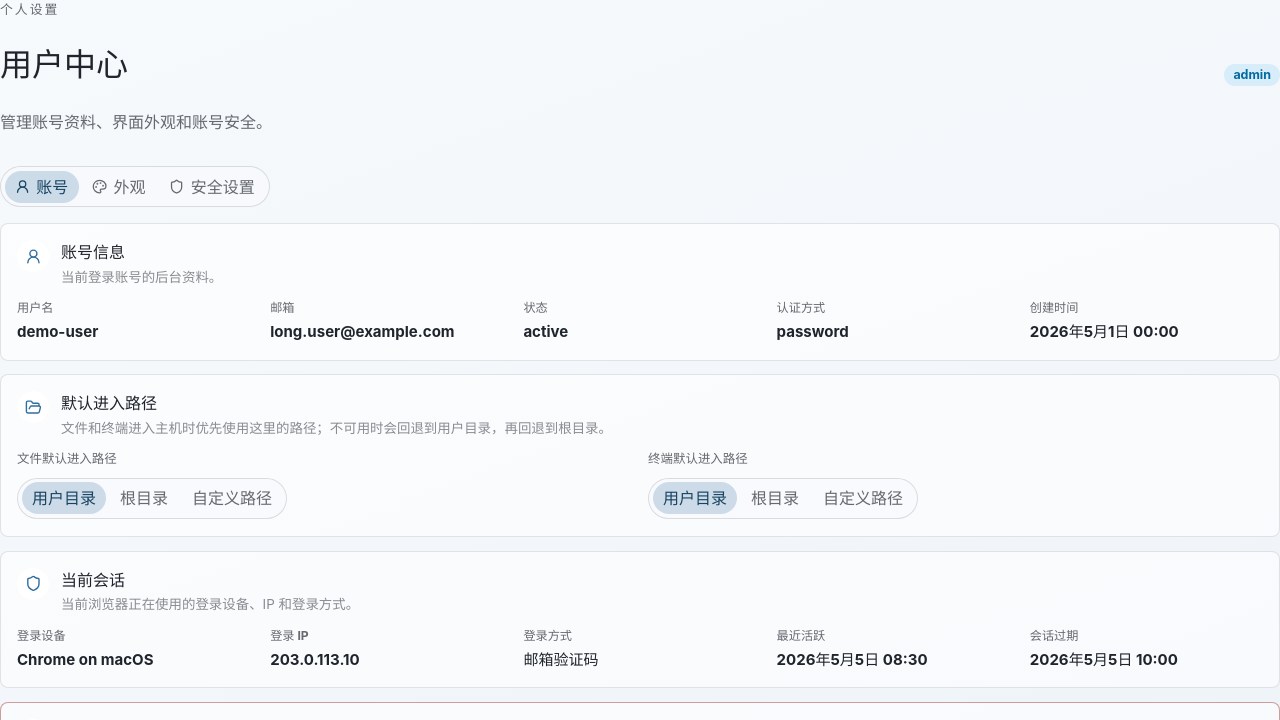
Test case: UserCenterPage › keeps the MFA setup dialog open when password verification fails
Click the button "安全设置": (212, 187) x1=159 y1=171 x2=265 y2=203
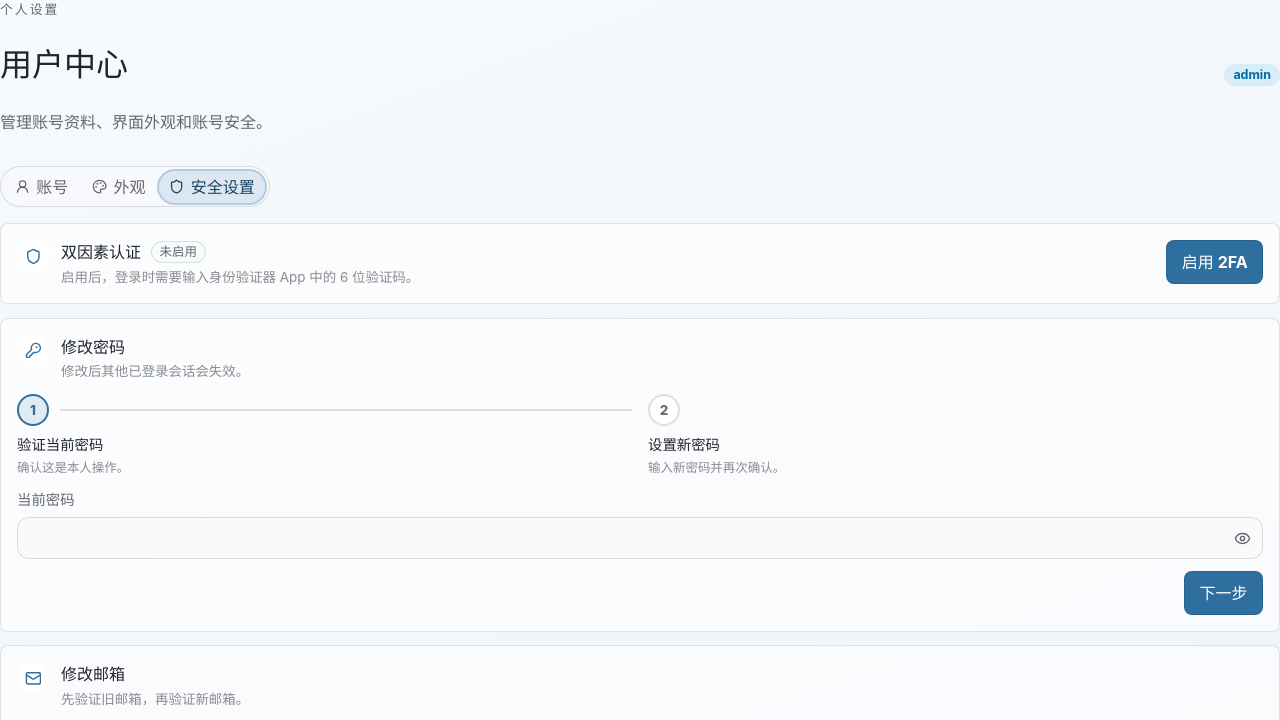
Click the button "启用 2FA": (1215, 262) x1=1166 y1=240 x2=1263 y2=284
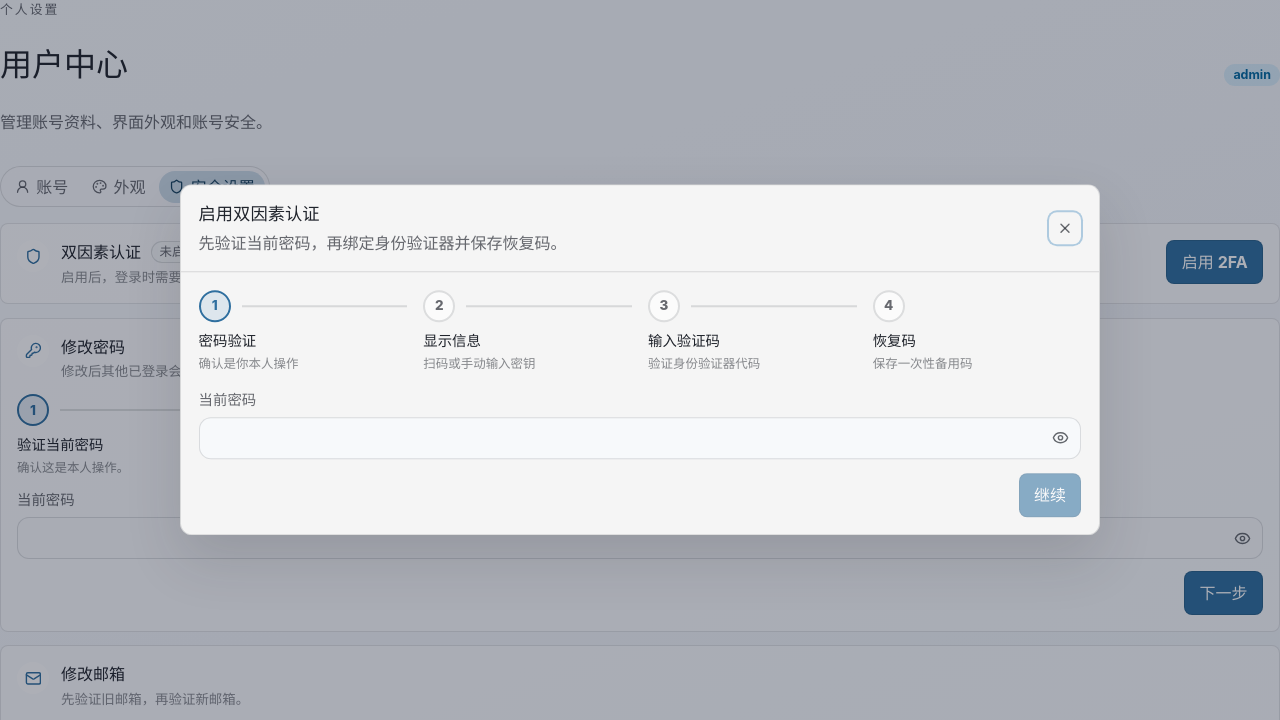
In the password field labelled "当前密码": (620, 438) x1=200 y1=418 x2=1040 y2=458, type "wrong-pass"
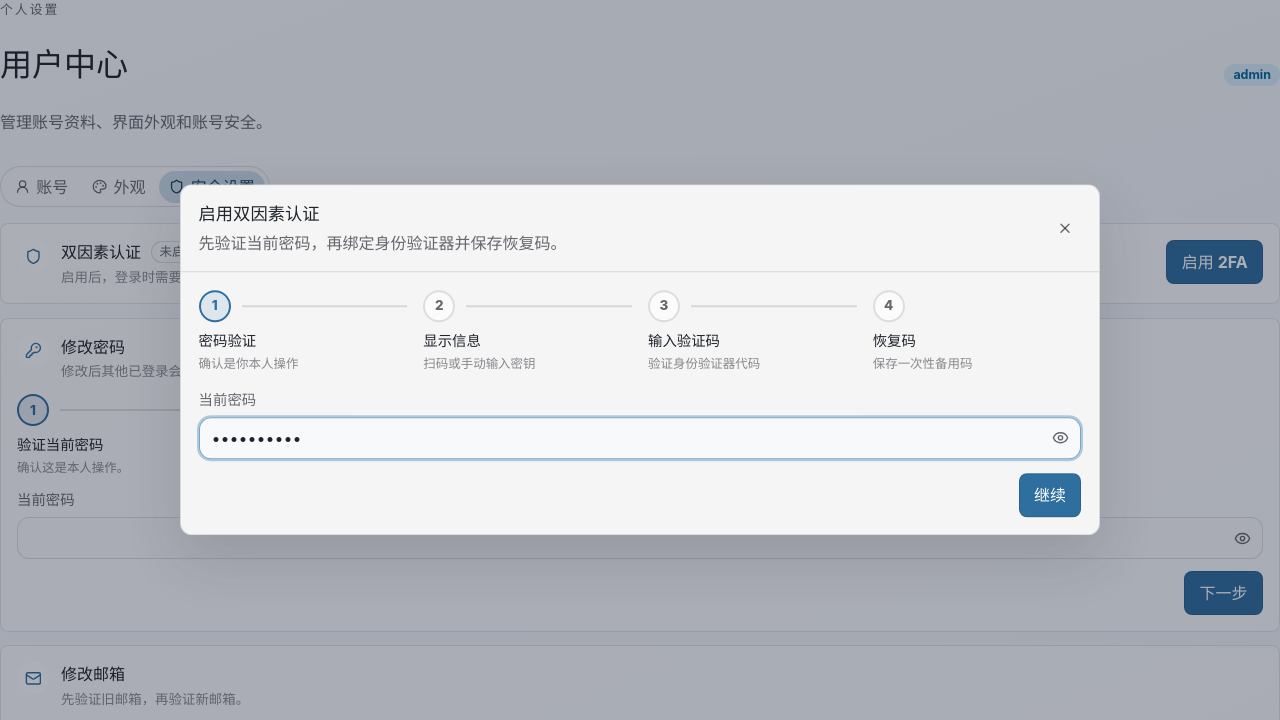
Click the button "继续": (1050, 495) x1=1019 y1=474 x2=1081 y2=517
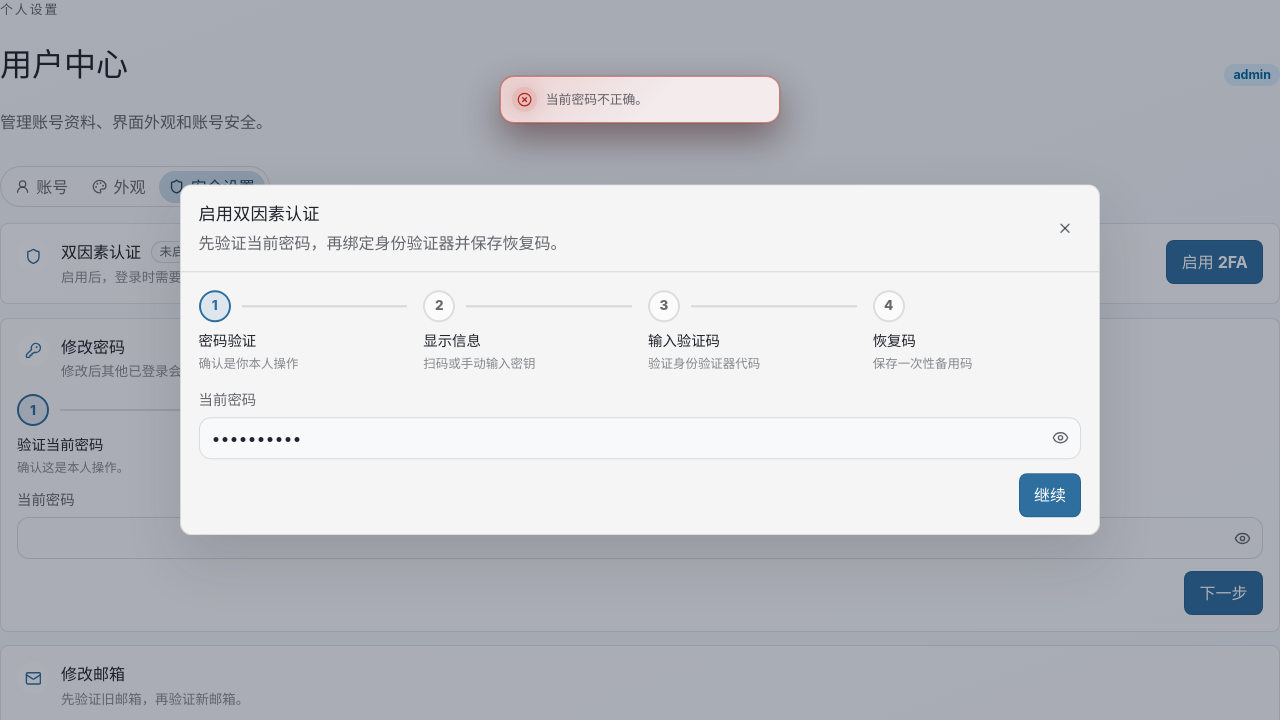
Expected: the dialog "启用双因素认证" is shown, x1=180 y1=184 x2=1100 y2=536
Expected: the text "当前密码不正确。" is shown, x1=546 y1=92 x2=648 y2=107
